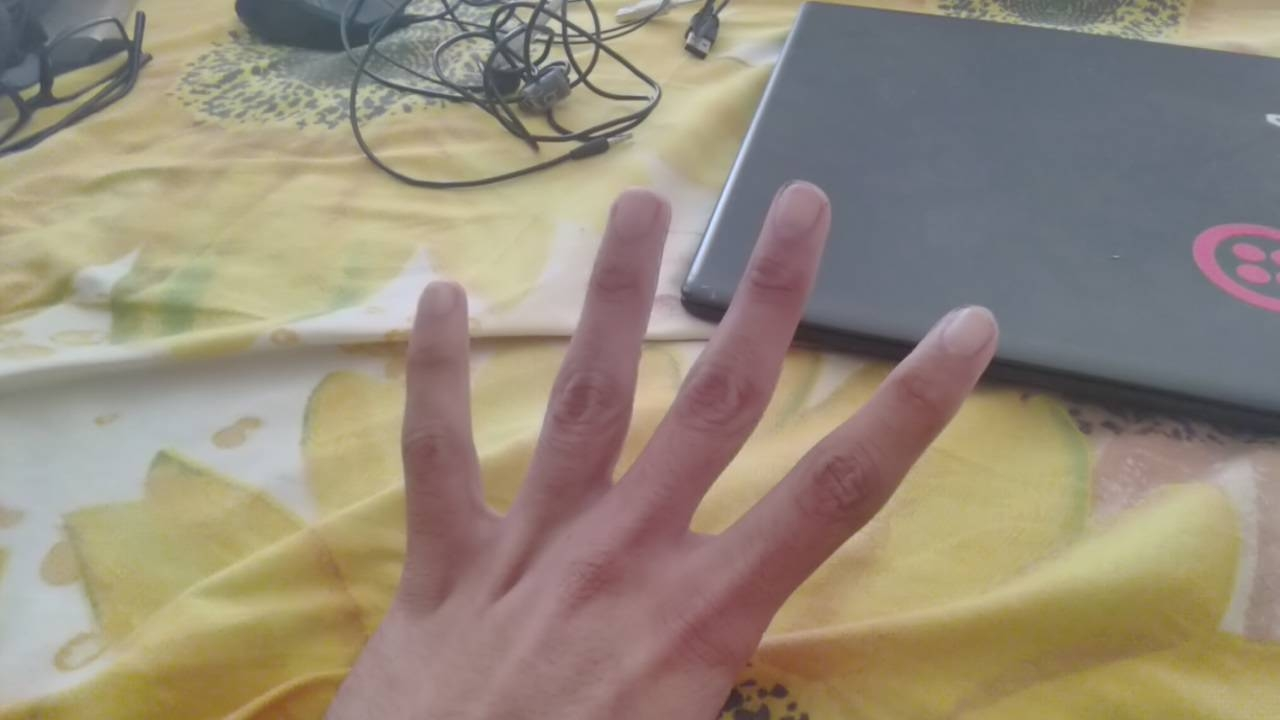fingertip: (930, 300, 1016, 366), (760, 174, 836, 236), (404, 270, 470, 336), (598, 184, 668, 246)
